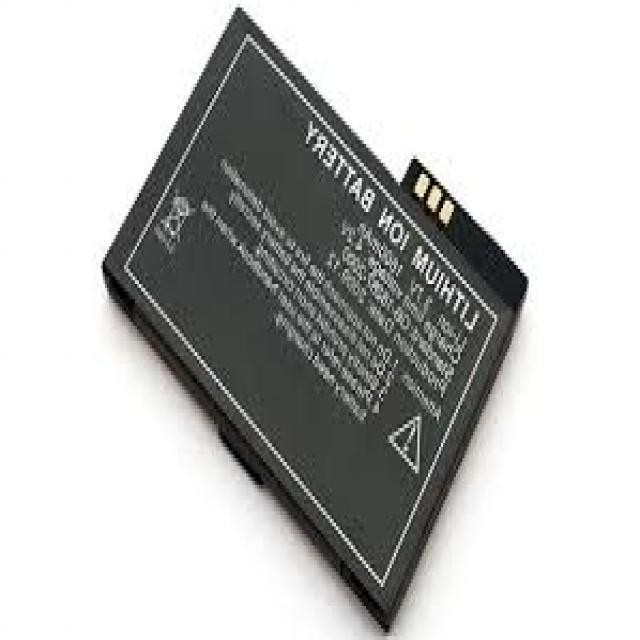battery: (102, 5, 530, 632)
